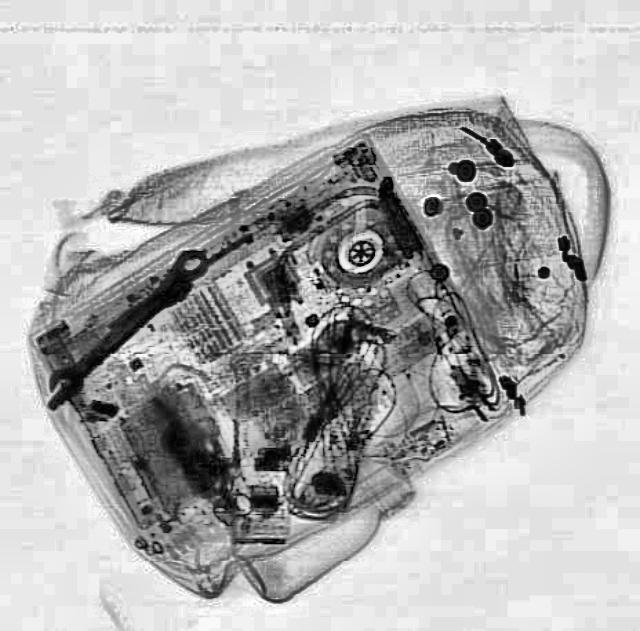Scissors: (205, 460, 251, 522)
Wrench: (28, 240, 216, 414)
